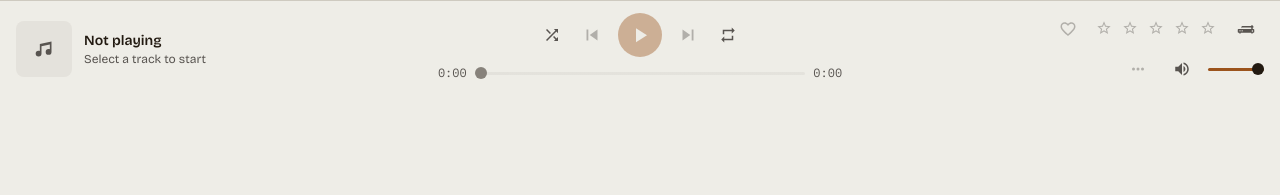
Test case: PlayerBar › opens the DJ mode menu on right click
The image size is (1280, 195).
Right-click the button named "auto dj" at [1246, 29], box top-left (1224, 7), bottom-right (1268, 51)
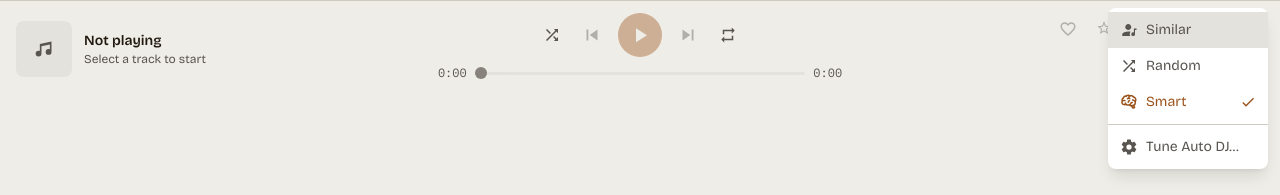
expect the menu item "Similar" is shown: met, box top-left (1108, 12), bottom-right (1268, 48)
expect the menu item "Random" is shown: met, box top-left (1108, 48), bottom-right (1268, 84)
expect the menu item "Smart" is shown: met, box top-left (1108, 84), bottom-right (1268, 120)
